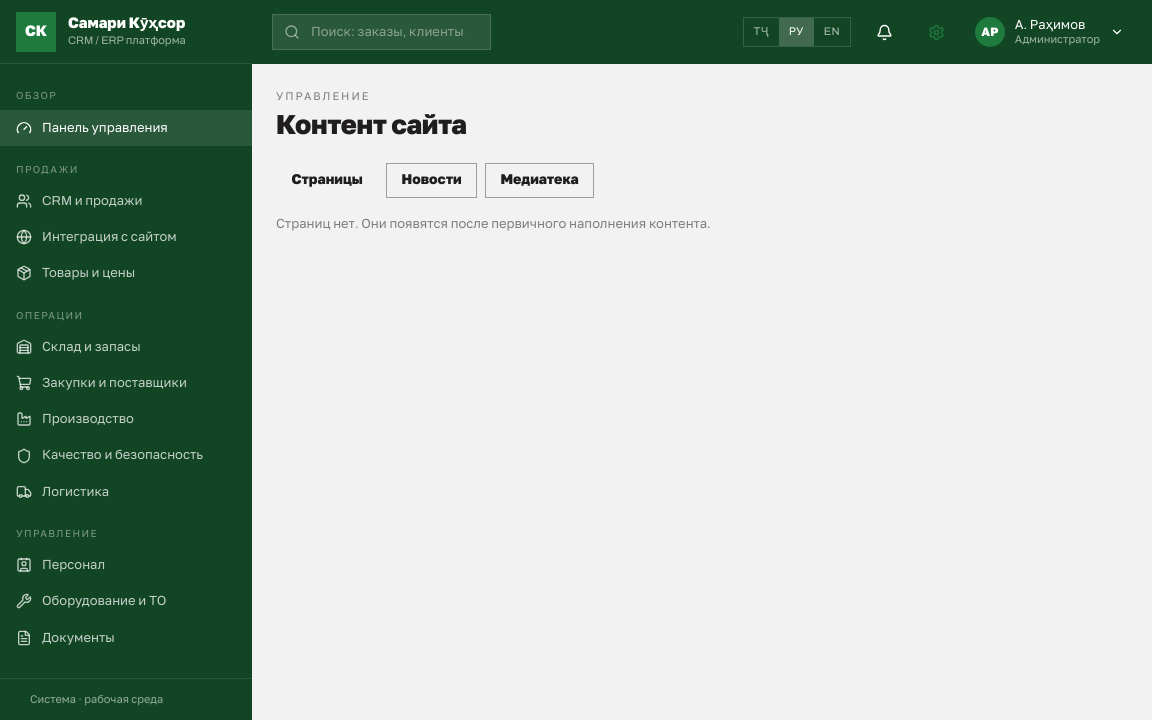
CMS — the ladder history › shows who moved a news post and what they said
This screenshot has width=1152, height=720.
Click the tab "Новости". click: point(432, 180)
box: [386,163,477,198]
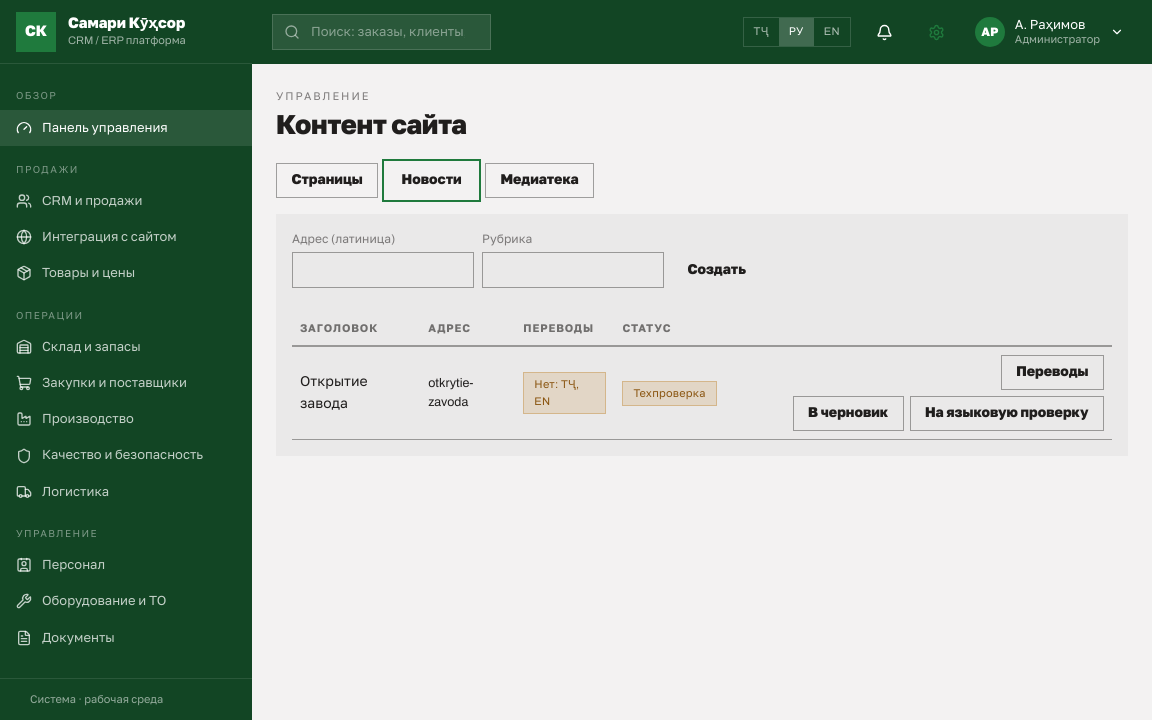
Click the button with test id "toggle-translations". click: point(1052, 373)
box: [1001,355,1104,390]
(page scrolled)
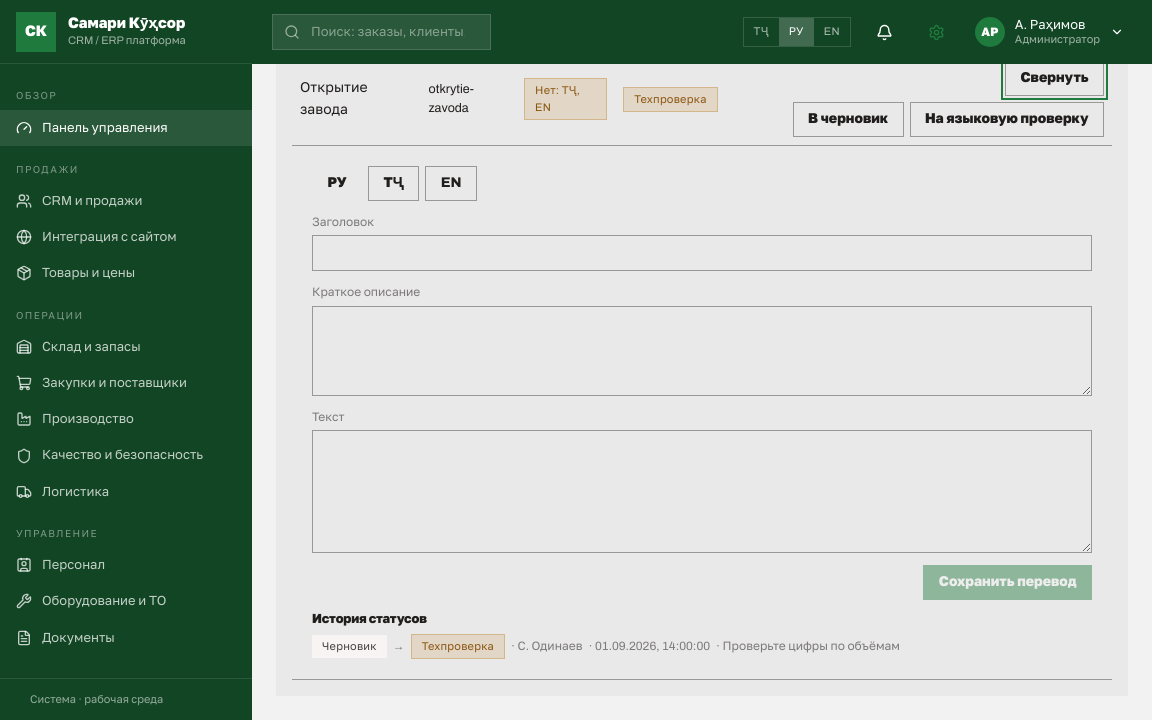
Check: the list item with test id "history-entry" shows "С. Одинаев", box [518,639,582,653]
Check: the list item with test id "history-entry" shows "Проверьте цифры по объёмам", box [723,639,900,653]
